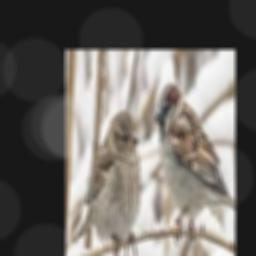Sparrow: (155, 82, 235, 246), (72, 109, 141, 256)
